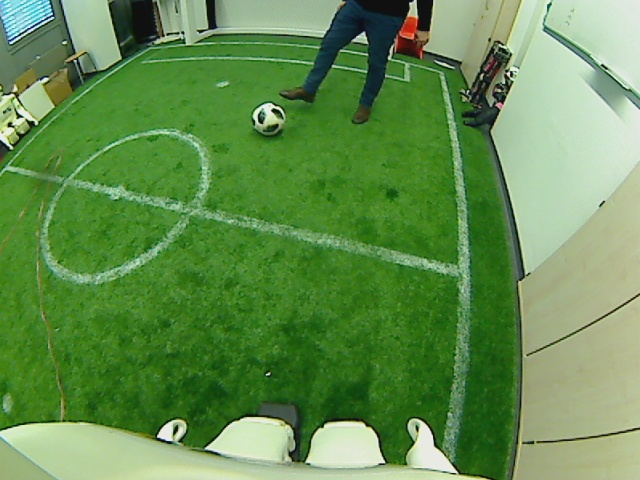ball: (249, 100, 286, 138)
